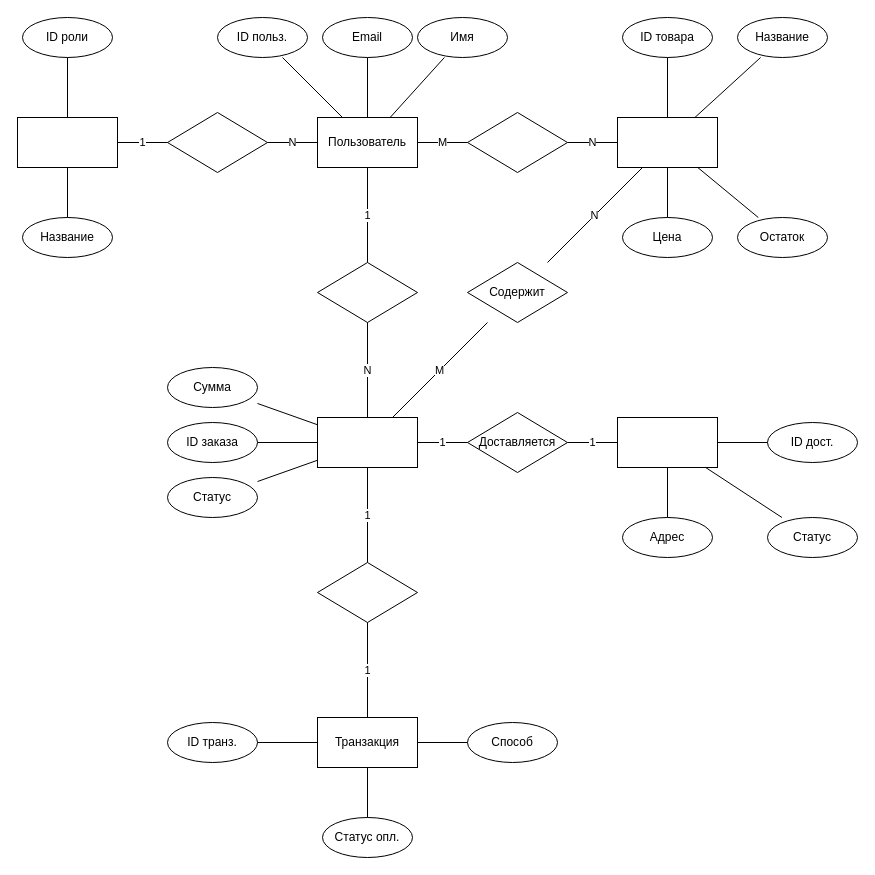
This 875x875 diagram has some shape labels left out. The shapes that lost their labels are listed below. From the top down, each one's box as (x1, y1, x2, y2) in pixels, then its label:
(16, 116, 118, 168): Роль
(166, 112, 268, 172): Имеет
(466, 112, 568, 172): В корзине
(616, 116, 718, 168): Товар
(316, 262, 418, 322): Оформляет
(316, 416, 418, 468): Заказ
(616, 416, 718, 468): Доставка
(316, 562, 418, 622): Оплачивается
